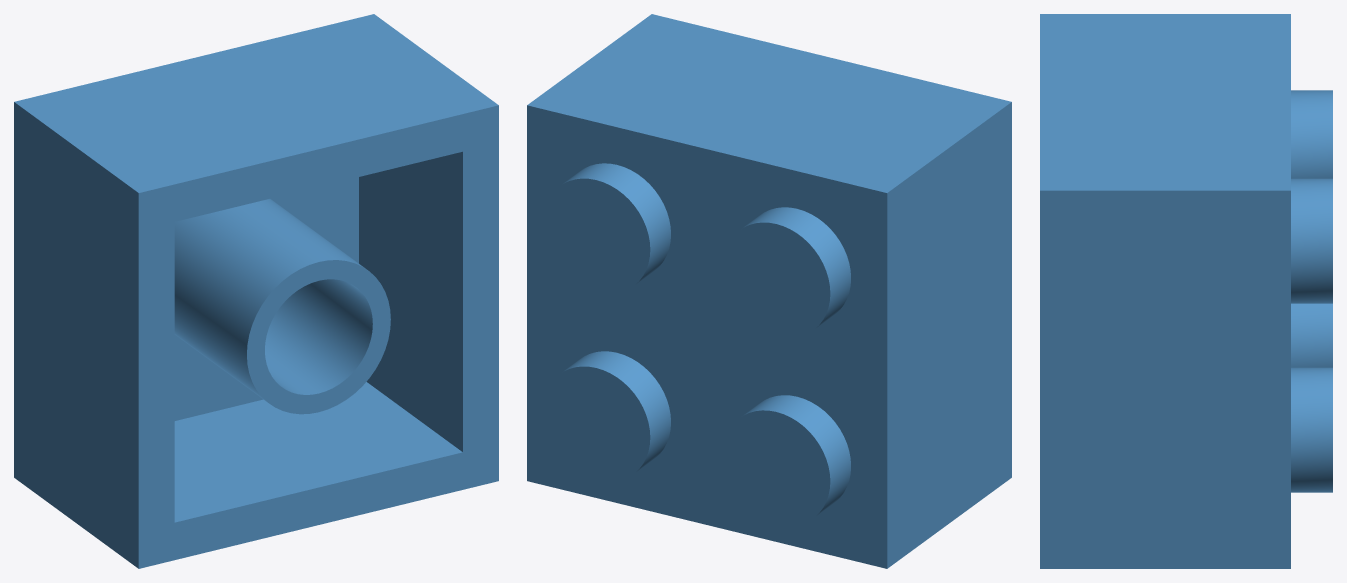
The model's file is cuadrado lago.dae.
The picture shows the model from 3 angles, left to right: view 1: azimuth 30°, elevation 25°; view 2: azimuth 150°, elevation 25°; view 3: azimuth 270°, elevation 25°; orthographic projection.
Visible parts, largest first — view 1: Inner-Node-UntitledModel_dot_io-0; view 2: Inner-Node-UntitledModel_dot_io-0; view 3: Inner-Node-UntitledModel_dot_io-0.
Boxes of the visible parts, x1=… form: Inner-Node-UntitledModel_dot_io-0: x1=14, y1=14, x2=498, y2=568; Inner-Node-UntitledModel_dot_io-0: x1=527, y1=14, x2=1011, y2=568; Inner-Node-UntitledModel_dot_io-0: x1=1040, y1=14, x2=1332, y2=568.
Bounding box in the file's own units: 39.75 × 39.64 × 27.82.
